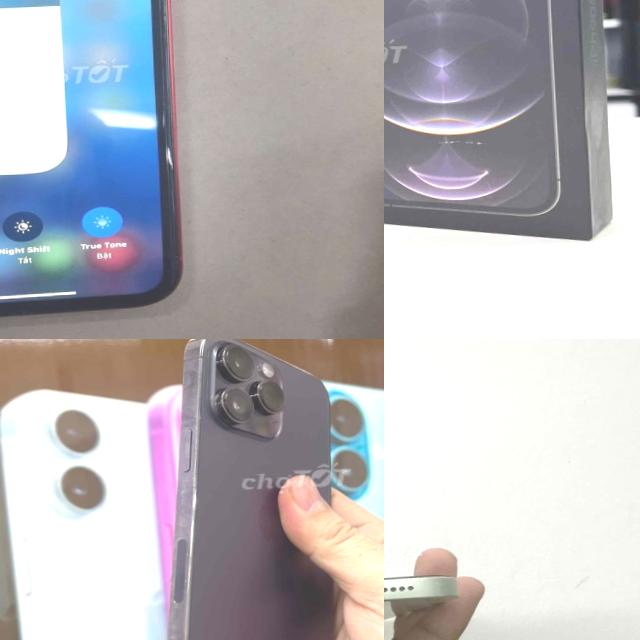gen_12_13: (384, 566, 501, 635)
gen_14: (147, 339, 376, 640)
gen_x_xs: (0, 0, 183, 326)
scratch: (161, 459, 210, 544), (150, 567, 204, 640)
